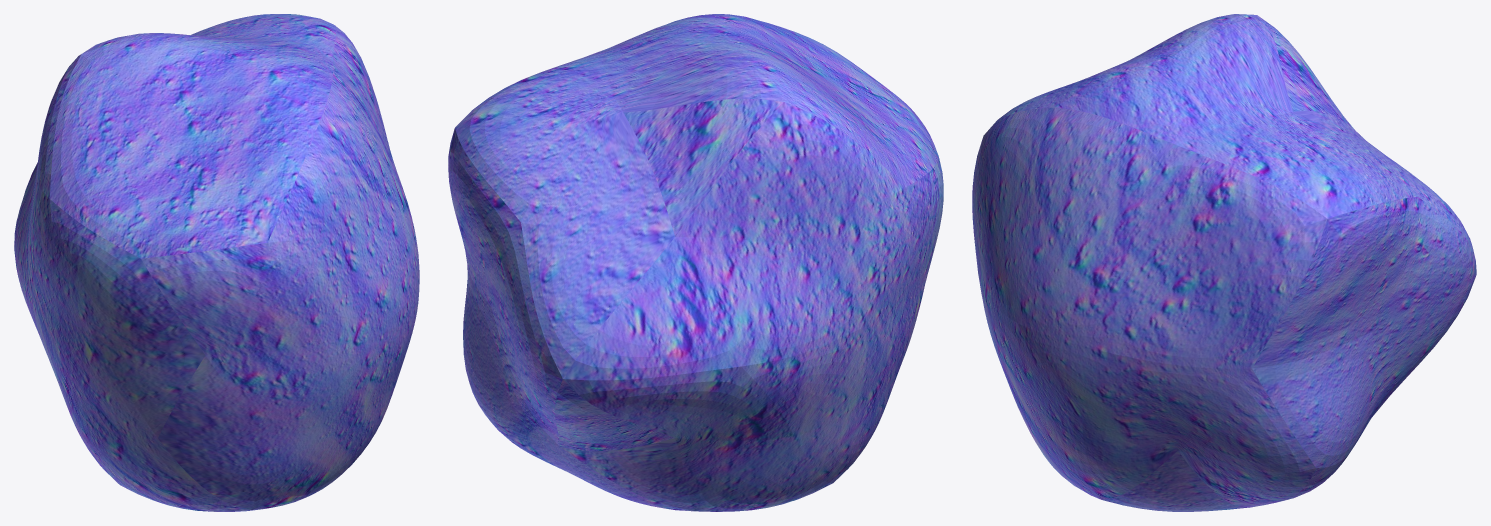
The model's file is bigasteroid14_LOD1.fbx.
The picture shows the model from 3 angles, left to right: view 1: azimuth 30°, elevation 25°; view 2: azimuth 150°, elevation 25°; view 3: azimuth 270°, elevation 25°; orthographic projection. The views are drawn at different scales.
Parts seen in each view (by area): view 1: Icosphere; view 2: Icosphere; view 3: Icosphere.
Boxes of the visible parts, box(x1,y1,x2,y2) form: Icosphere: box(14, 14, 419, 511); Icosphere: box(448, 14, 943, 511); Icosphere: box(972, 14, 1476, 511).
Size of the model in its own units: 211 by 227 by 245.
